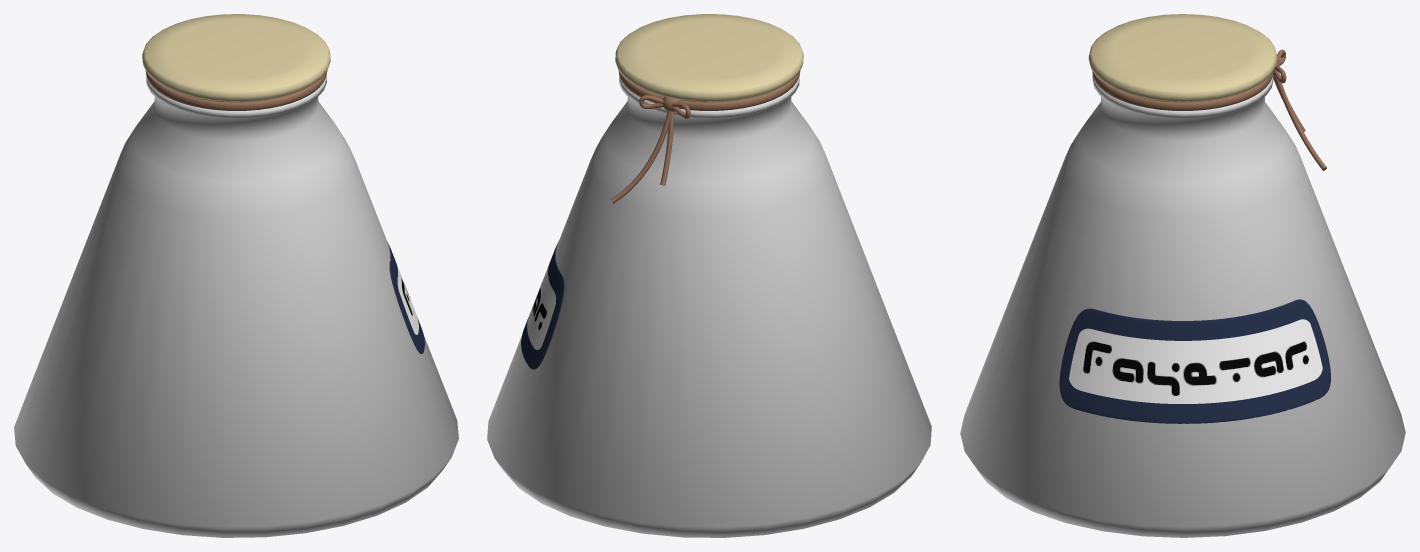
Rendered from vinegar.fbx.
The picture shows the model from 3 angles, left to right: view 1: azimuth 30°, elevation 25°; view 2: azimuth 150°, elevation 25°; view 3: azimuth 270°, elevation 25°; orthographic projection.
Visible parts, largest first — view 1: vinegar, Cylinder.006, rope.005, label.005; view 2: vinegar, Cylinder.006, rope.005, label.005; view 3: vinegar, label.005, Cylinder.006, rope.005.
Part boxes in pixels (x1,y1,x2,y2): vinegar: [14, 76, 458, 537]; Cylinder.006: [142, 14, 330, 102]; rope.005: [145, 70, 327, 110]; label.005: [387, 241, 424, 353]; vinegar: [487, 76, 931, 537]; Cylinder.006: [615, 14, 803, 102]; rope.005: [610, 70, 800, 203]; label.005: [521, 241, 564, 369]; vinegar: [960, 75, 1405, 537]; label.005: [1059, 299, 1330, 423]; Cylinder.006: [1088, 14, 1277, 102]; rope.005: [1092, 49, 1326, 170].
Bounding box in the file's own units: 92.08 × 91.86 × 92.08.
